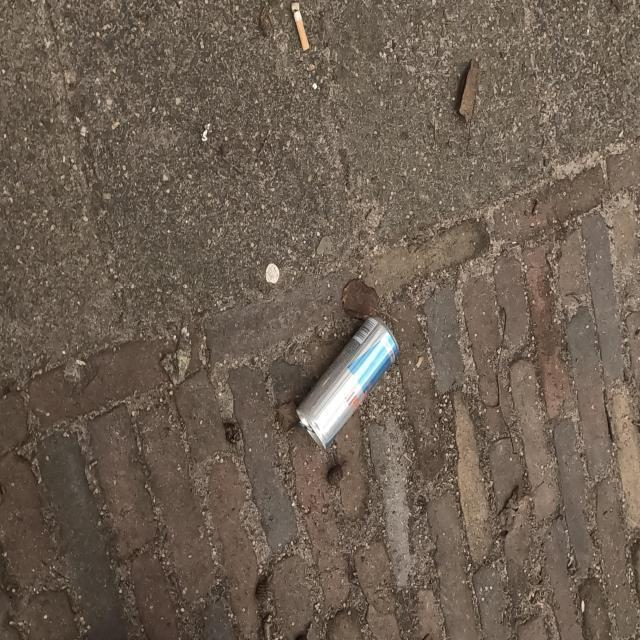Can-Metal: (305, 311, 396, 444)
